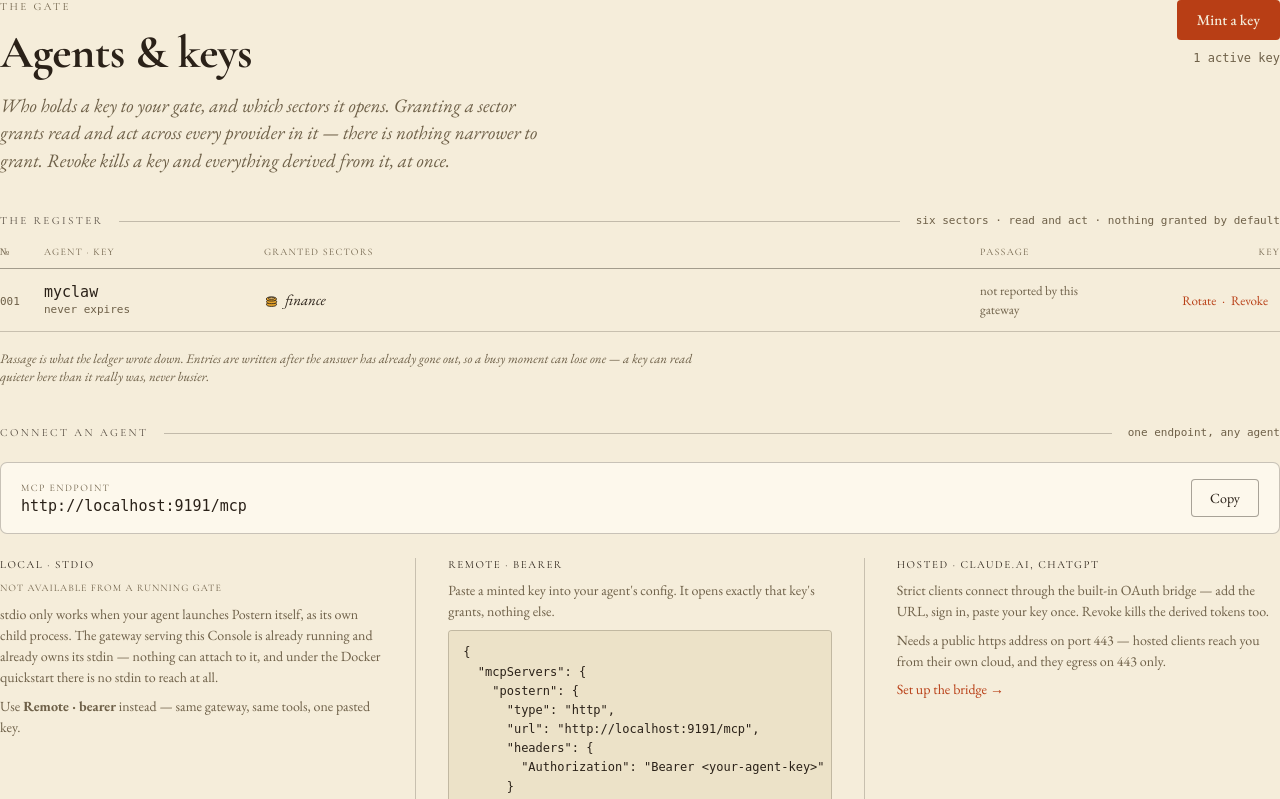
it: AgentsPage register › Revoke goes through the in-app ConfirmBar, never window.confirm (#70)
Click the button "Revoke".
click(1249, 301)  # box [1231,293,1268,309]
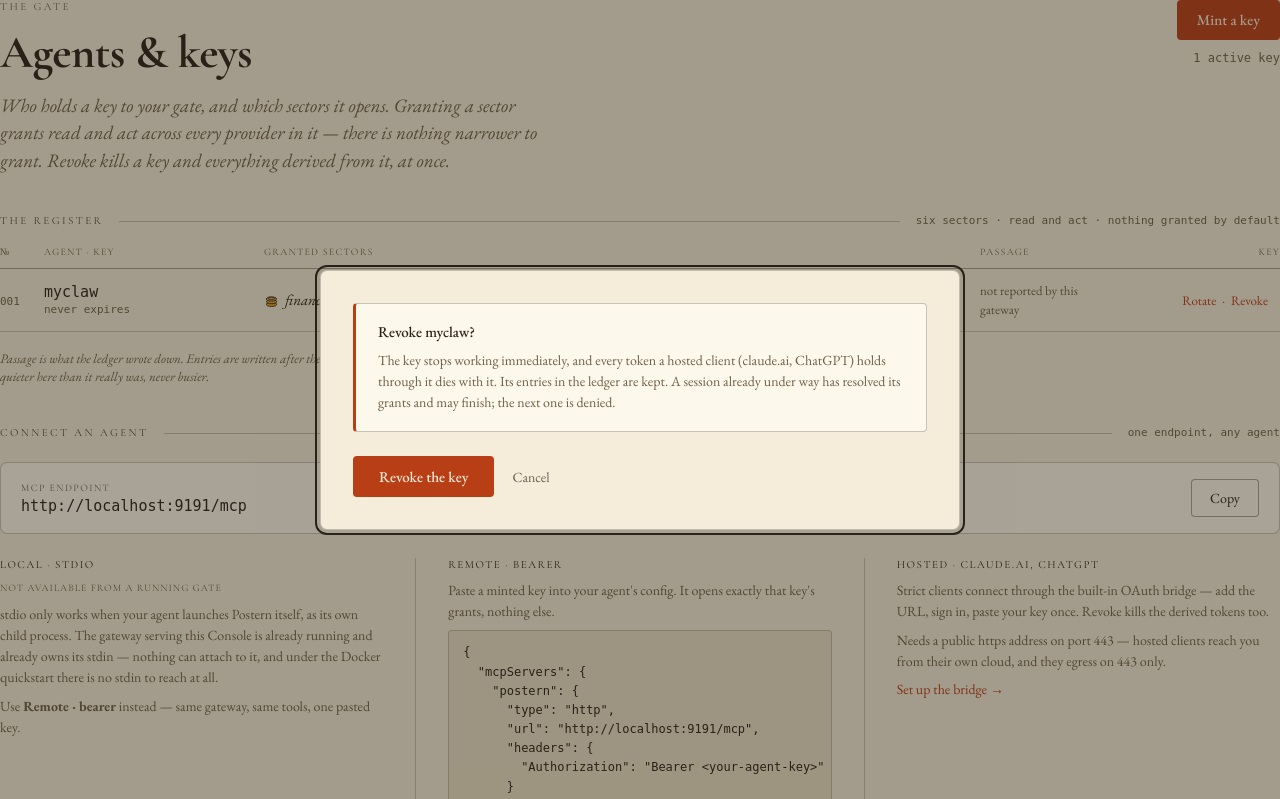
Expected: the button "Revoke the key" is shown, [353,456,494,497]
